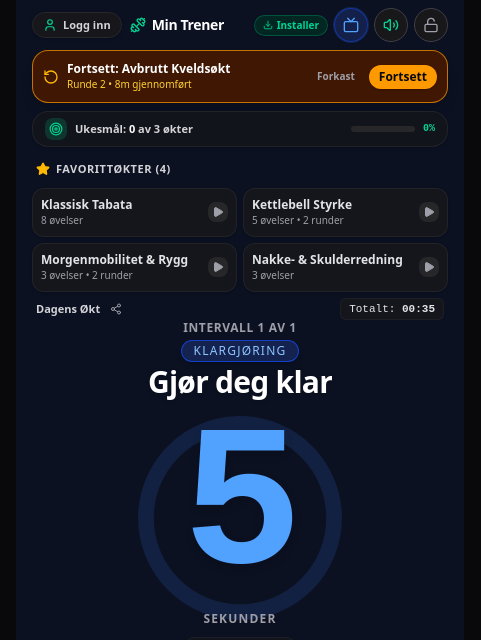
Scenario: Gjenopprettingsbanner (avbrutt økt) › forkaster lagret økt ved trykk på «Forkast» uten å starte noe
The image size is (481, 640).
Click the button "Forkast": (336, 76) [309,65,363,88]
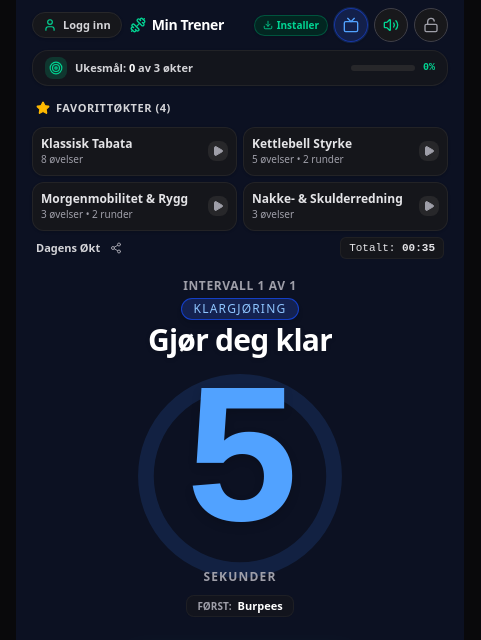
Expected: the element with test id "restore-session-banner" is gone
